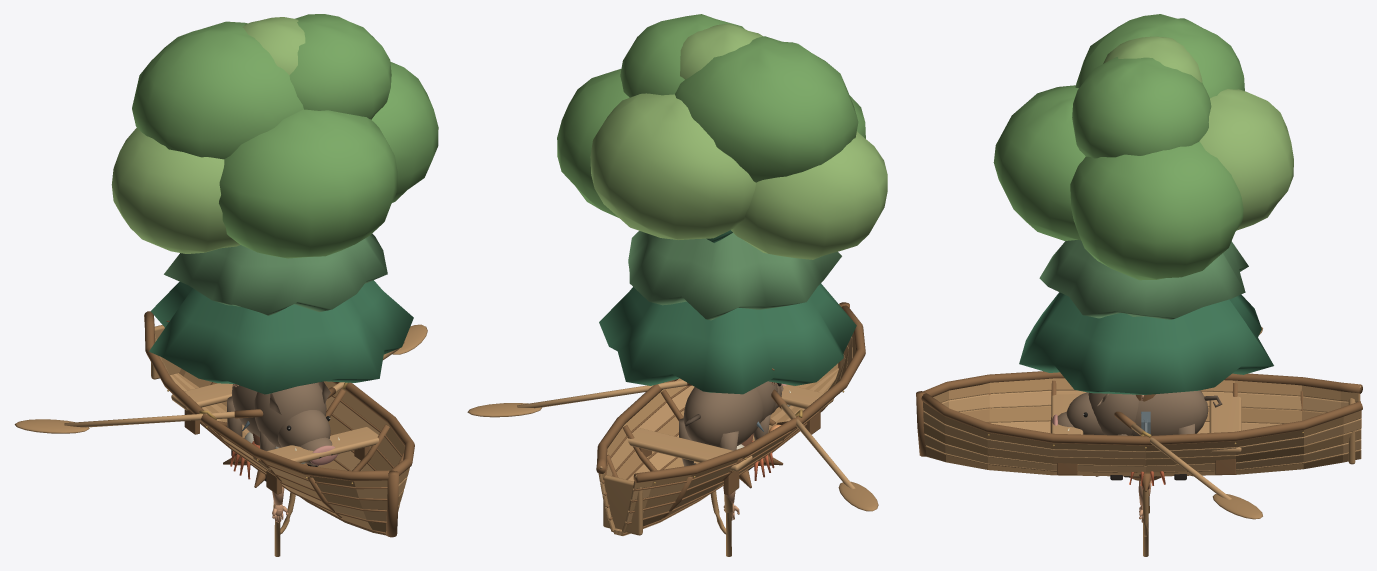
The model's file is expedition-17.glb.
3 views of the same model, side by side, from view 1: azimuth 30°, elevation 25°; view 2: azimuth 150°, elevation 25°; view 3: azimuth 270°, elevation 25° (orthographic). The views are drawn at different scales.
Parts seen in each view (by area): view 1: Broadleaf__Meadow_broadleaf_green, Pine__Highland_pine_needles, Broadleaf__Broadleaf_sunlit_tips, Pine__Pine_new_growth, Rowboat__Timber_end_grain, Rowboat__Warm_alternate_planks, Rowboat__Honey_boat_timber, Boar__Boar_umber, Boar_Head__Boar_umber, Oar shaft L, Oar shaped paddle L; view 2: Broadleaf__Broadleaf_sunlit_tips, Broadleaf__Meadow_broadleaf_green, Pine__Highland_pine_needles, Pine__Pine_new_growth, Rowboat__Timber_end_grain, Rowboat__Warm_alternate_planks, Rowboat__Honey_boat_timber, Boar__Boar_umber, Oar shaft R, Oar shaped paddle R, Oar shaped paddle L, Oar shaft L; view 3: Broadleaf__Meadow_broadleaf_green, Pine__Highland_pine_needles, Rowboat__Honey_boat_timber, Rowboat__Warm_alternate_planks, Broadleaf__Broadleaf_sunlit_tips, Pine__Pine_new_growth, Rowboat__Timber_end_grain, Boar__Boar_umber, Boar_Head__Boar_umber, Oar shaped paddle R, Oar shaft R.
Part boxes in pixels (x1,y1,x2,y2): Broadleaf__Meadow_broadleaf_green: [132, 14, 438, 258]; Pine__Highland_pine_needles: [149, 280, 413, 394]; Broadleaf__Broadleaf_sunlit_tips: [111, 17, 305, 253]; Pine__Pine_new_growth: [164, 233, 387, 315]; Rowboat__Timber_end_grain: [144, 311, 414, 537]; Rowboat__Warm_alternate_planks: [155, 334, 407, 521]; Rowboat__Honey_boat_timber: [151, 325, 409, 535]; Boar__Boar_umber: [232, 382, 326, 447]; Boar_Head__Boar_umber: [269, 381, 332, 465]; Oar shaft L: [64, 411, 234, 427]; Oar shaped paddle L: [14, 419, 89, 433]; Broadleaf__Broadleaf_sunlit_tips: [590, 23, 887, 259]; Broadleaf__Meadow_broadleaf_green: [557, 14, 865, 217]; Pine__Highland_pine_needles: [599, 230, 856, 394]; Pine__Pine_new_growth: [628, 231, 841, 320]; Rowboat__Timber_end_grain: [596, 302, 865, 534]; Rowboat__Warm_alternate_planks: [599, 337, 852, 535]; Rowboat__Honey_boat_timber: [598, 332, 855, 535]; Boar__Boar_umber: [683, 381, 777, 447]; Oar shaft R: [517, 380, 687, 408]; Oar shaped paddle R: [467, 403, 541, 417]; Oar shaped paddle L: [838, 481, 878, 511]; Oar shaft L: [781, 403, 855, 489]; Broadleaf__Meadow_broadleaf_green: [993, 14, 1244, 280]; Pine__Highland_pine_needles: [1019, 292, 1273, 394]; Rowboat__Honey_boat_timber: [923, 378, 1361, 476]; Rowboat__Warm_alternate_planks: [923, 386, 1361, 472]; Broadleaf__Broadleaf_sunlit_tips: [1103, 36, 1293, 230]; Pine__Pine_new_growth: [1039, 240, 1248, 319]; Rowboat__Timber_end_grain: [916, 371, 1362, 474]; Boar__Boar_umber: [1088, 390, 1208, 435]; Boar_Head__Boar_umber: [1057, 392, 1108, 434]; Oar shaped paddle R: [1212, 494, 1262, 519]; Oar shaft R: [1131, 423, 1231, 499].
Size of the model in its own units: 3.73 by 4.62 by 3.64.
